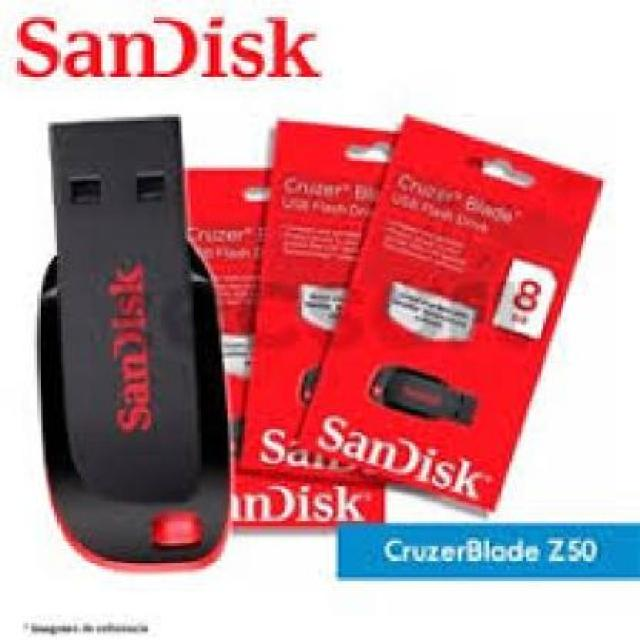Flashdisk: (32, 113, 235, 576), (368, 358, 480, 429)
